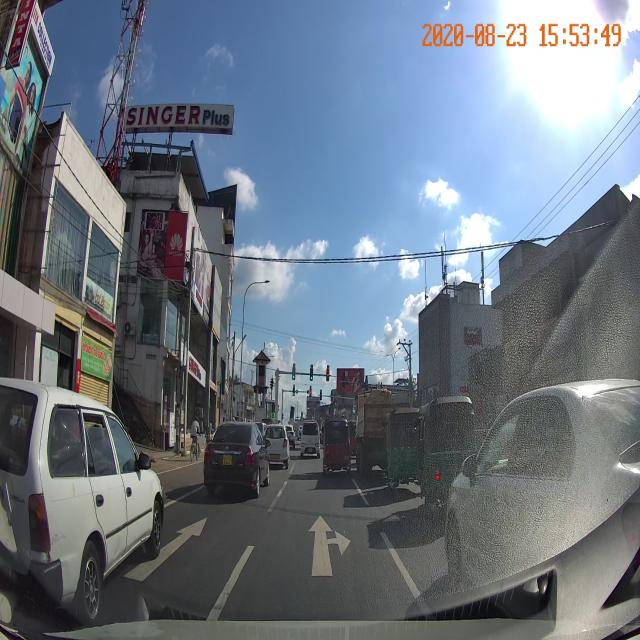forward_right: (217, 510, 422, 591), (216, 523, 420, 592), (217, 530, 423, 592)
